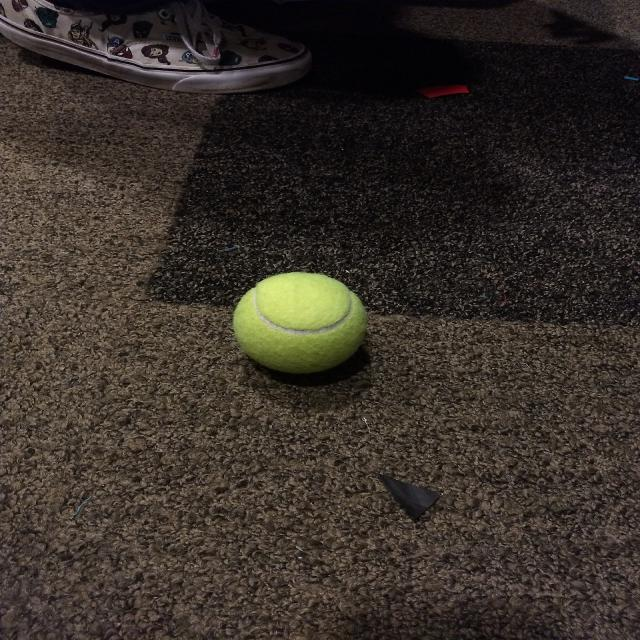Tennis-Ball: (235, 271, 371, 377)
